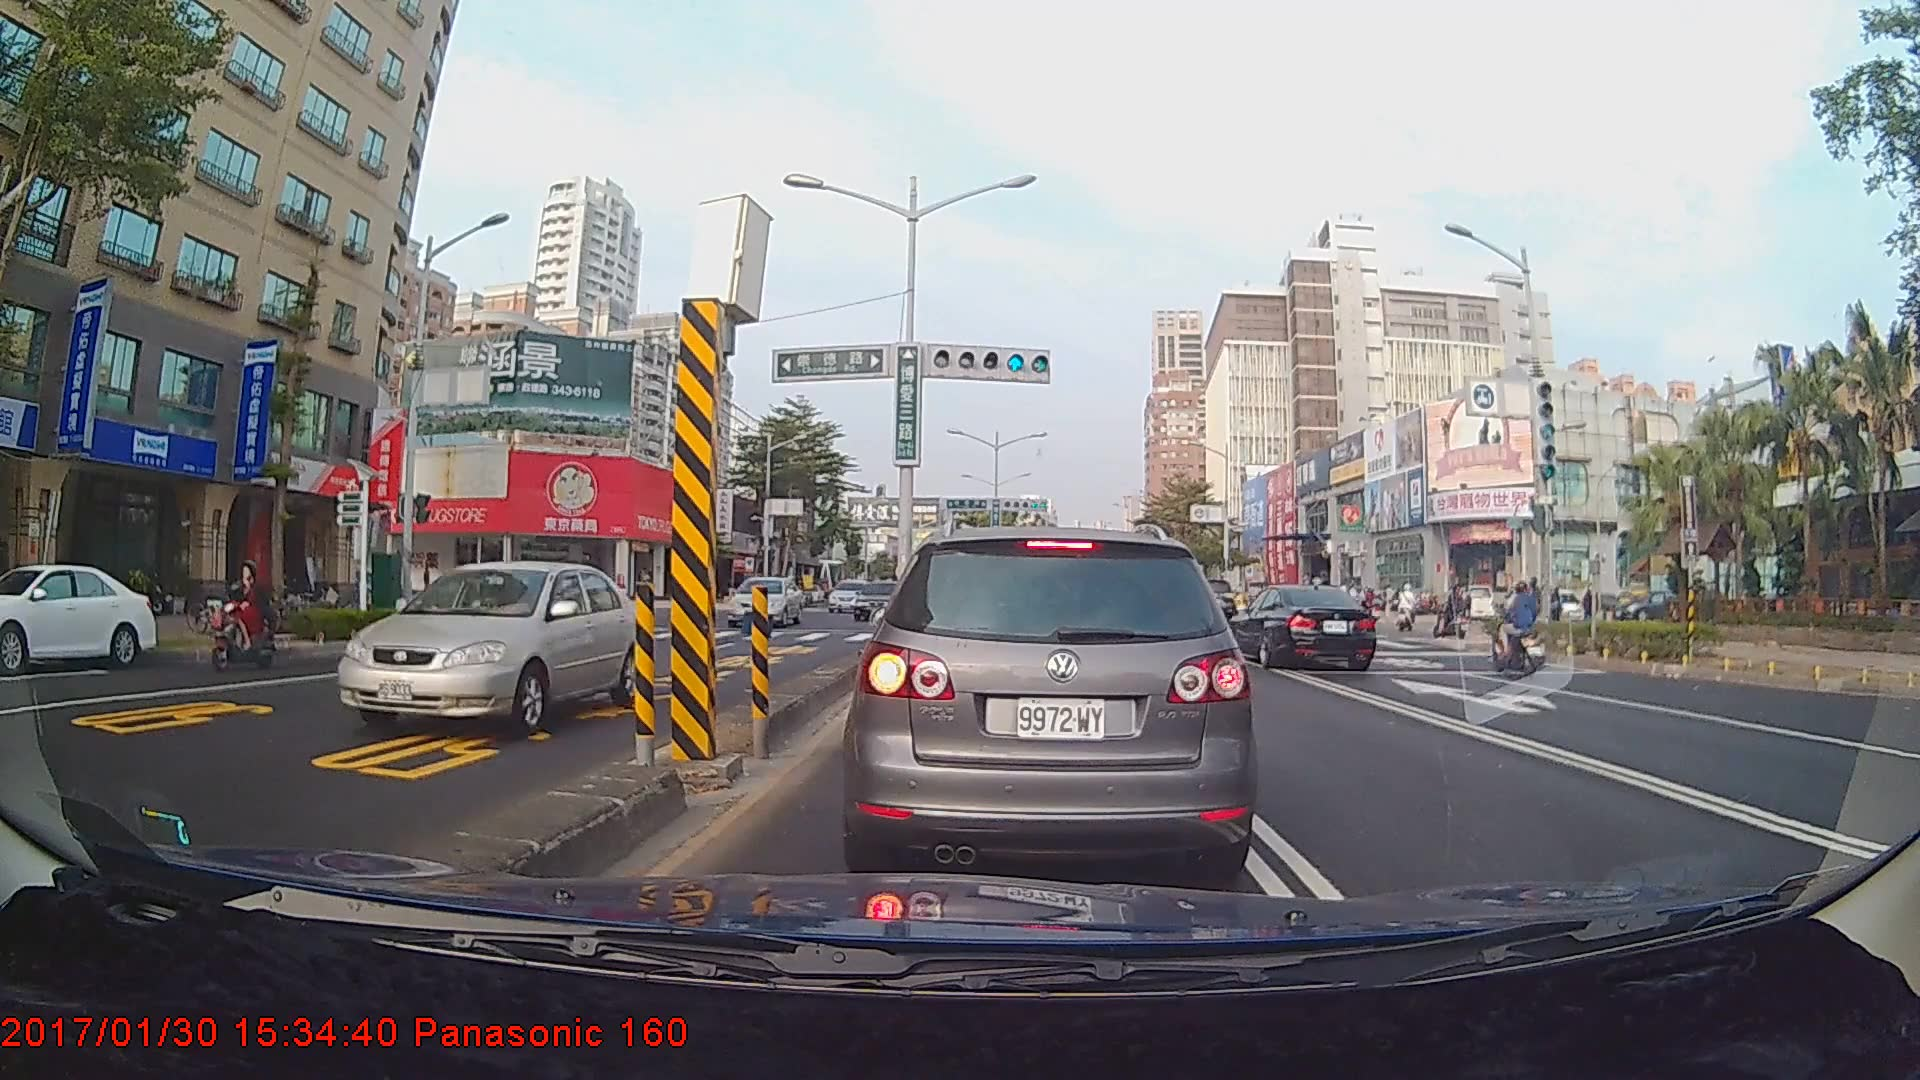rider: (199, 563, 282, 669), (1487, 580, 1554, 679), (1485, 582, 1548, 668), (1436, 582, 1473, 646), (1388, 584, 1421, 632)
vehicle: (856, 522, 1246, 885), (332, 558, 653, 738), (0, 561, 157, 671), (1222, 582, 1378, 676), (730, 575, 803, 628), (851, 579, 910, 621), (1189, 577, 1235, 621)
